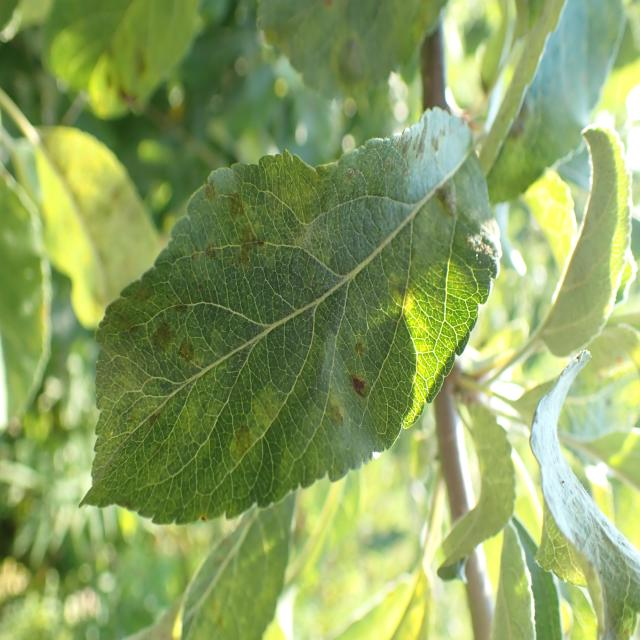scab: (81, 114, 494, 521)
